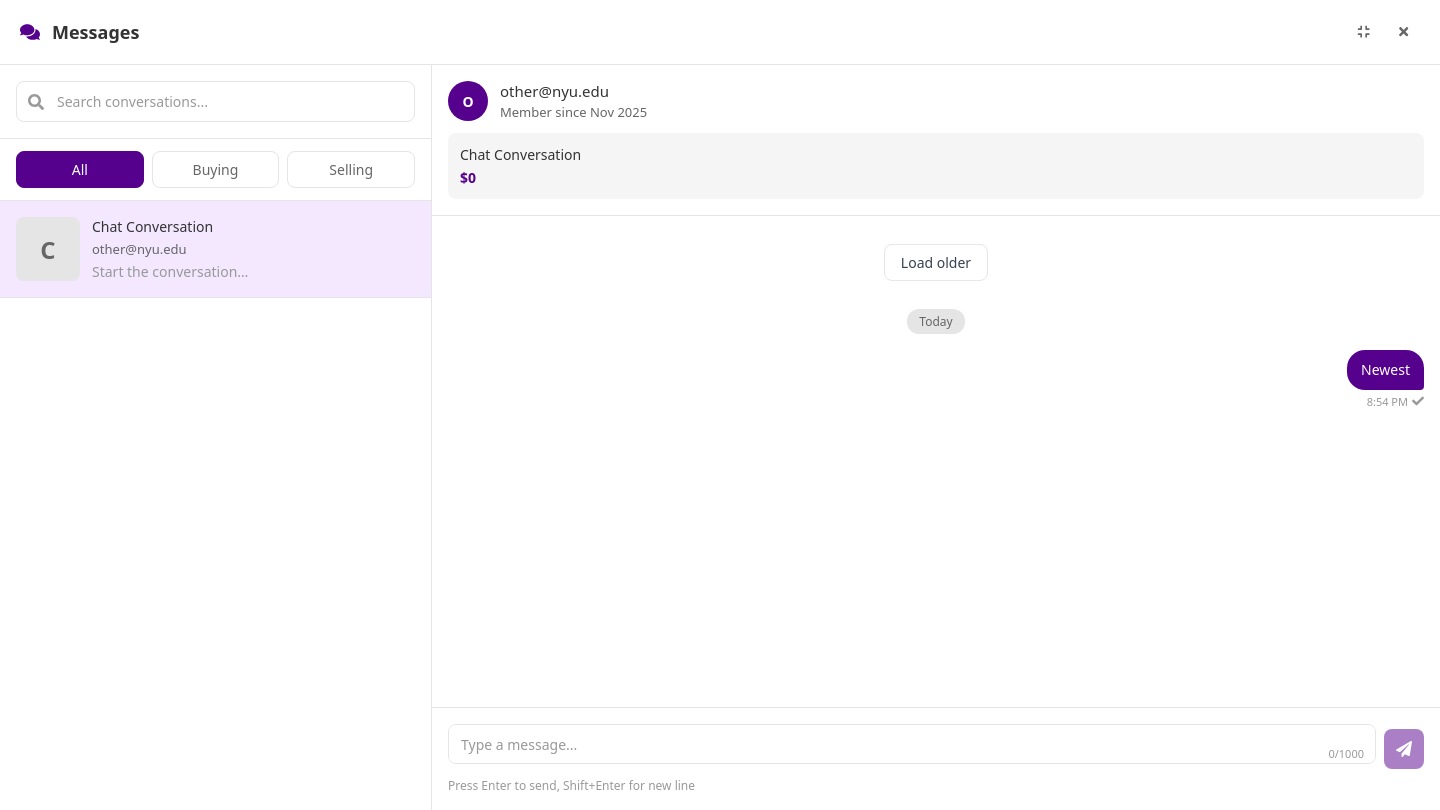
Test: Chat page › loads older messages when 'Load older' is clicked
Expected: the text "Newest" is shown, [1361, 360, 1410, 380]
Click the button "Load older": click(936, 262) [884, 244, 988, 281]
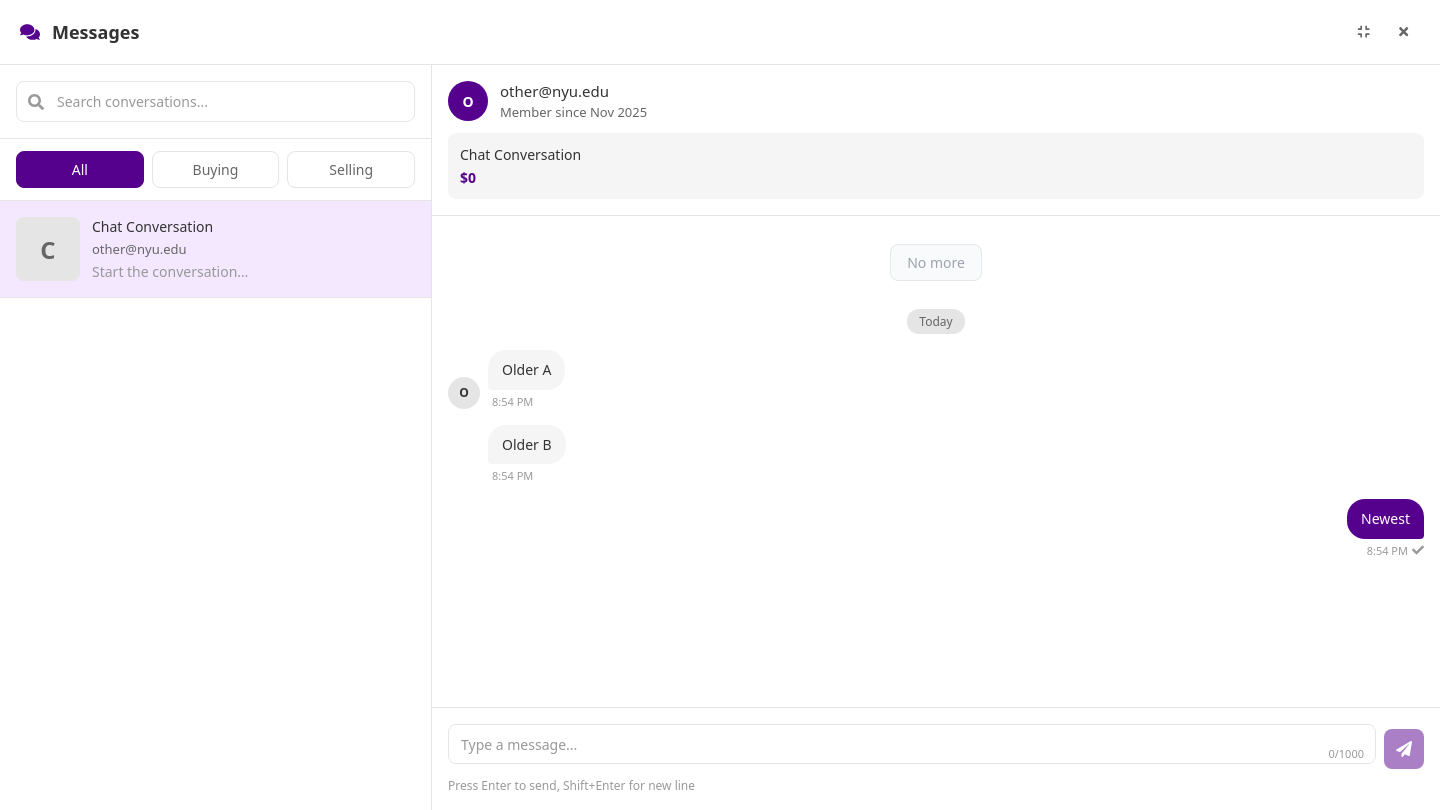
Expected: the text "Older A" is shown, [502, 360, 551, 380]
Expected: the text "Older B" is shown, [502, 435, 552, 454]
Expected: the button "No more" is disabled, [890, 244, 982, 281]
